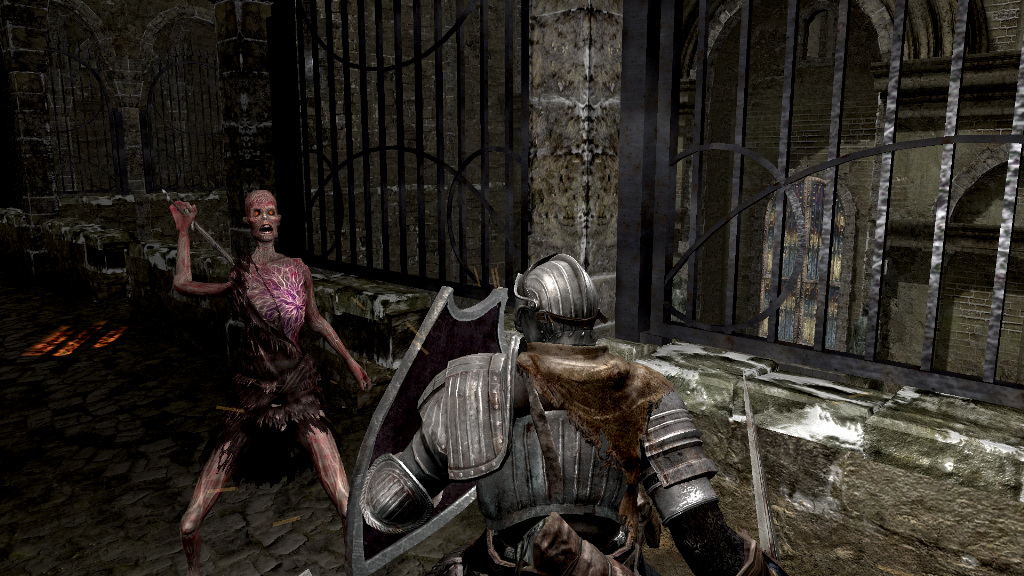hollow: (171, 189, 373, 576)
player: (343, 249, 792, 576)
